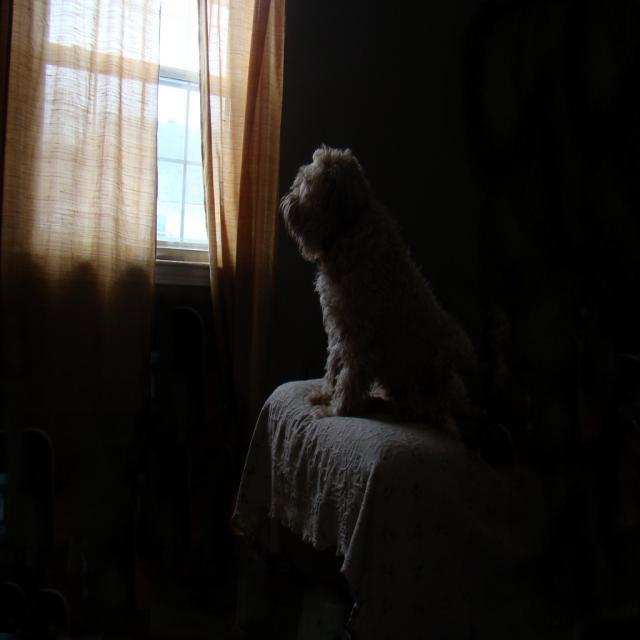Dog: (248, 131, 599, 451)
